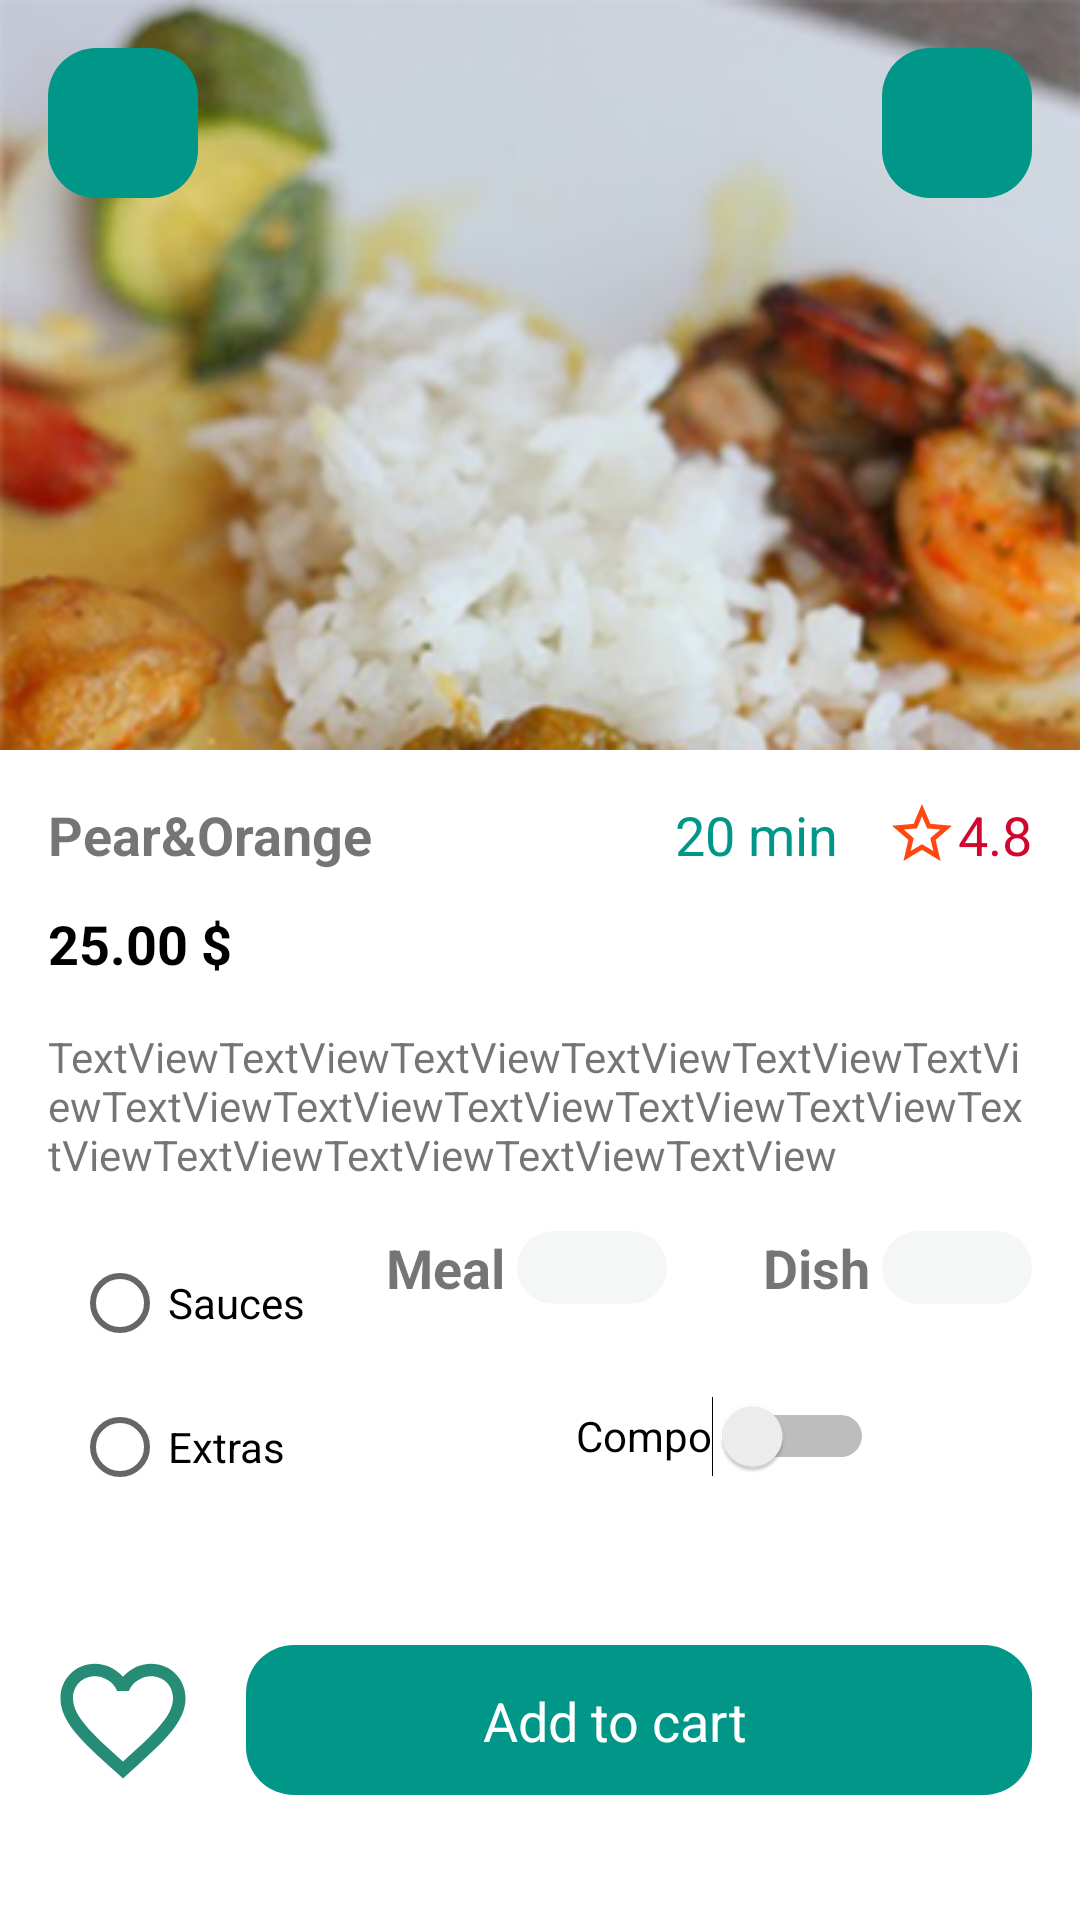

Where icons sit on this 1080 × 1920 app screen, as (x1, y1, x2, y2):
favorite border: (60, 1663, 186, 1779)
